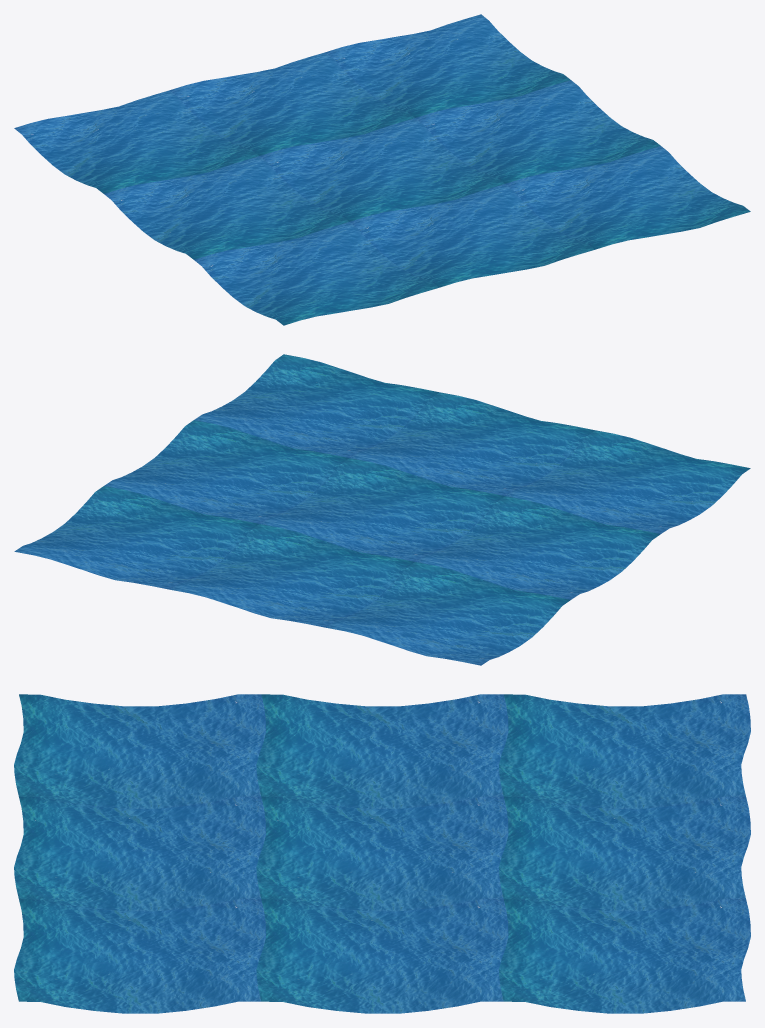
The model's file is ocean_000064.obj.
The picture shows the model from 3 angles, top to bottom: view 1: azimuth 30°, elevation 25°; view 2: azimuth 150°, elevation 25°; view 3: azimuth 270°, elevation 25°; orthographic projection. The views are drawn at different scales.
Parts seen in each view (by area): view 1: Ocean_Plan.001; view 2: Ocean_Plan.001; view 3: Ocean_Plan.001.
Part boxes in pixels (box(x1,y1,x2,y2)): Ocean_Plan.001: box(14, 14, 750, 325); Ocean_Plan.001: box(14, 354, 750, 665); Ocean_Plan.001: box(14, 694, 750, 1013).
Bounding box in the file's own units: 109192 × 2226 × 110430.
Materials: 1 (1 with a texture image).
